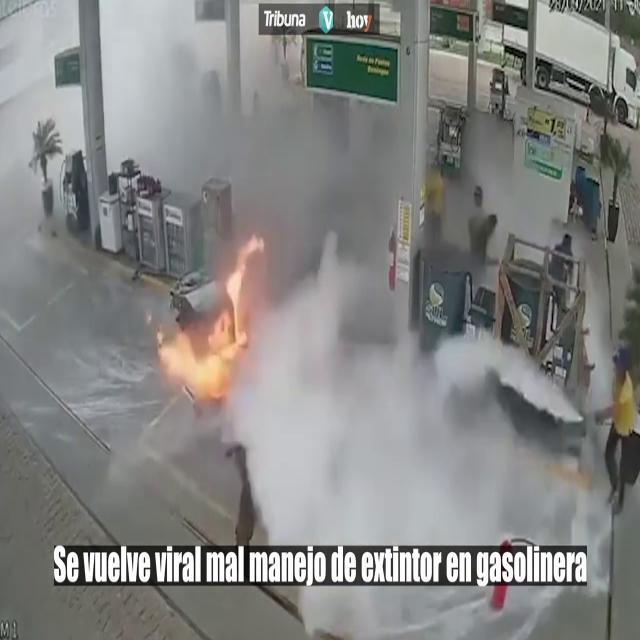Fire: (158, 226, 264, 405)
Smoke: (188, 16, 483, 548)
